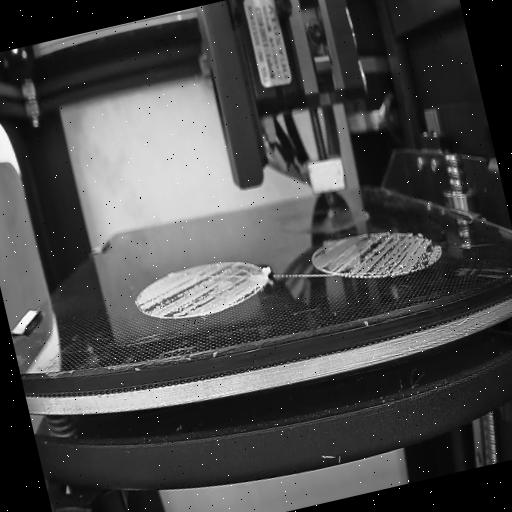under_extrusion: (134, 256, 262, 325), (354, 219, 444, 284), (310, 233, 356, 282)
